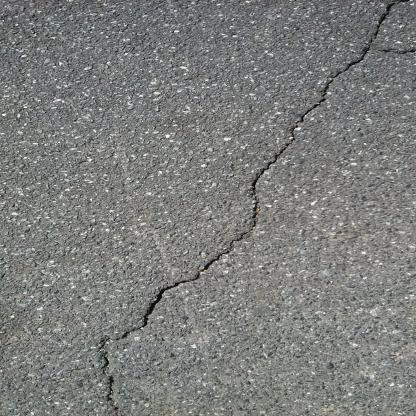Cracks: (88, 0, 410, 415)
